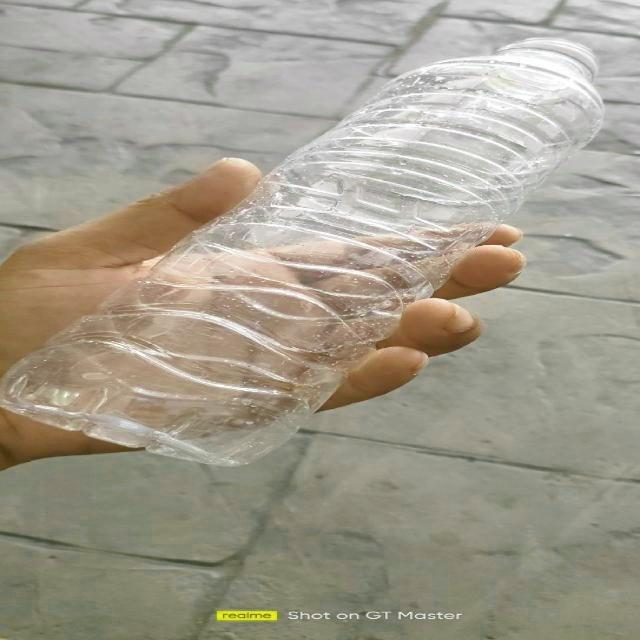bottle: (0, 36, 607, 466)
